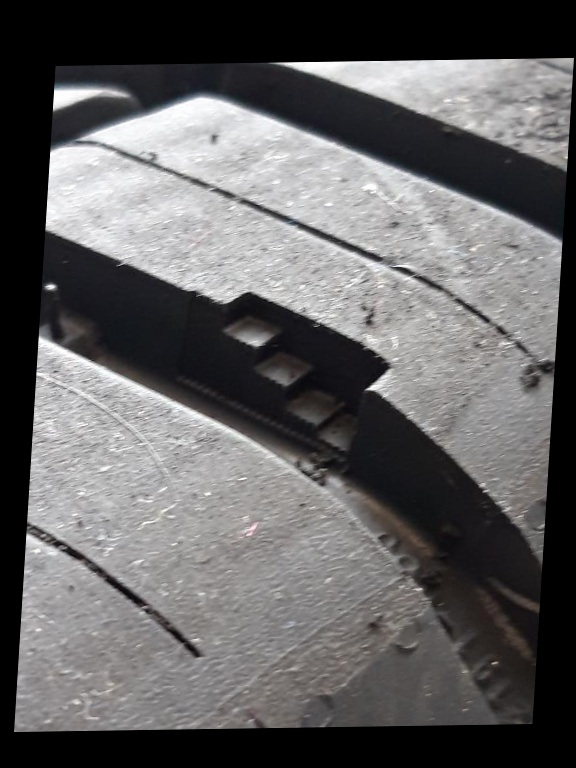temoin:95: (165, 272, 408, 485)
